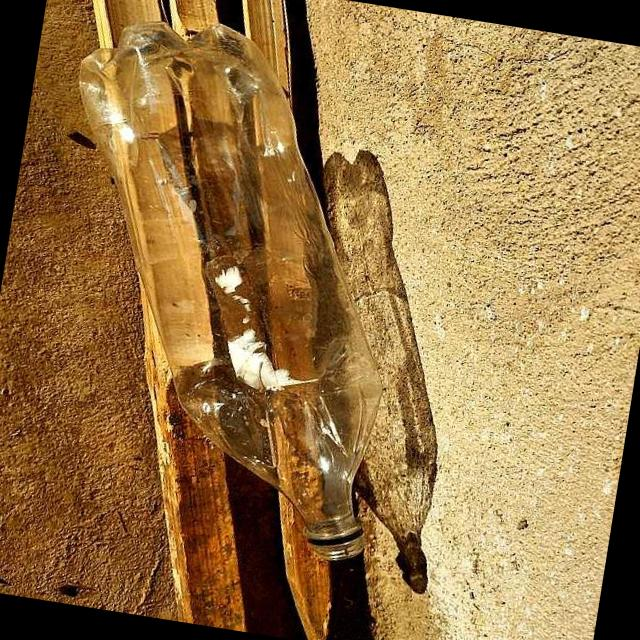Non-biodegradable: (11, 1, 454, 562)
